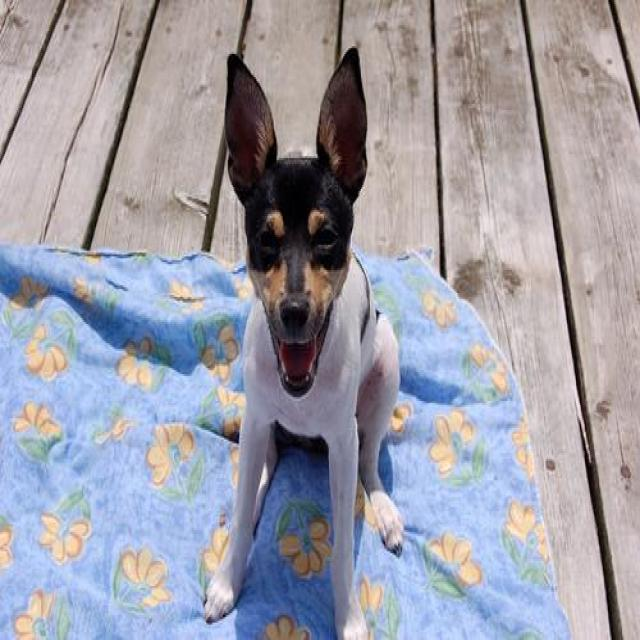toy_terrier: (202, 46, 406, 638)
